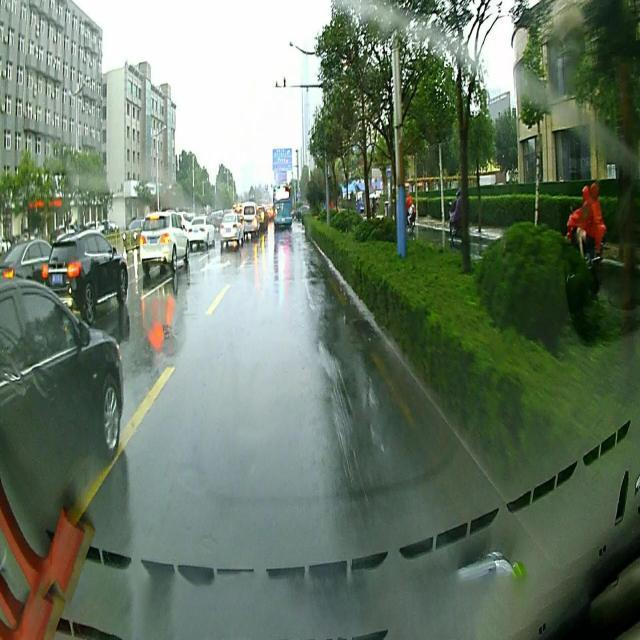car: (0, 277, 124, 502), (41, 228, 128, 322), (138, 212, 190, 278), (0, 233, 59, 286), (220, 207, 242, 252), (188, 217, 216, 250), (242, 203, 258, 240), (258, 208, 270, 234)
